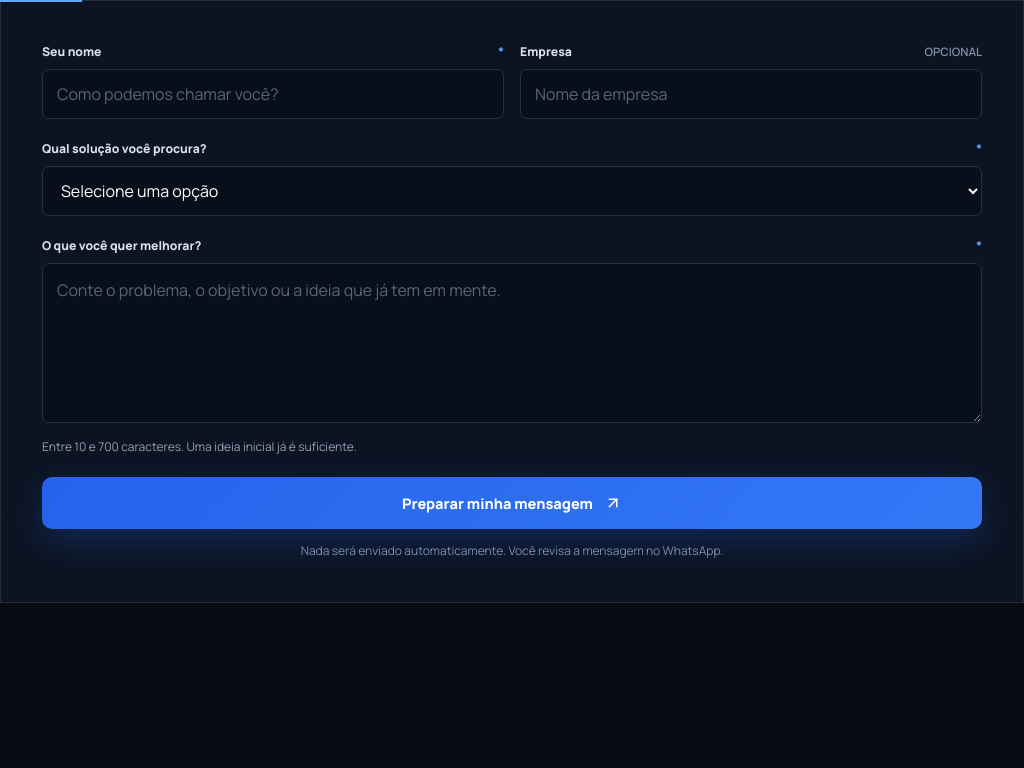
Test case: ContactForm › valida campos obrigatórios sem abrir o WhatsApp
This screenshot has width=1024, height=768.
What coordinates should you click on to do the following:
click the button "Preparar minha mensagem"
I would click on:
 (512, 503)
Its box is [42,477,982,529].
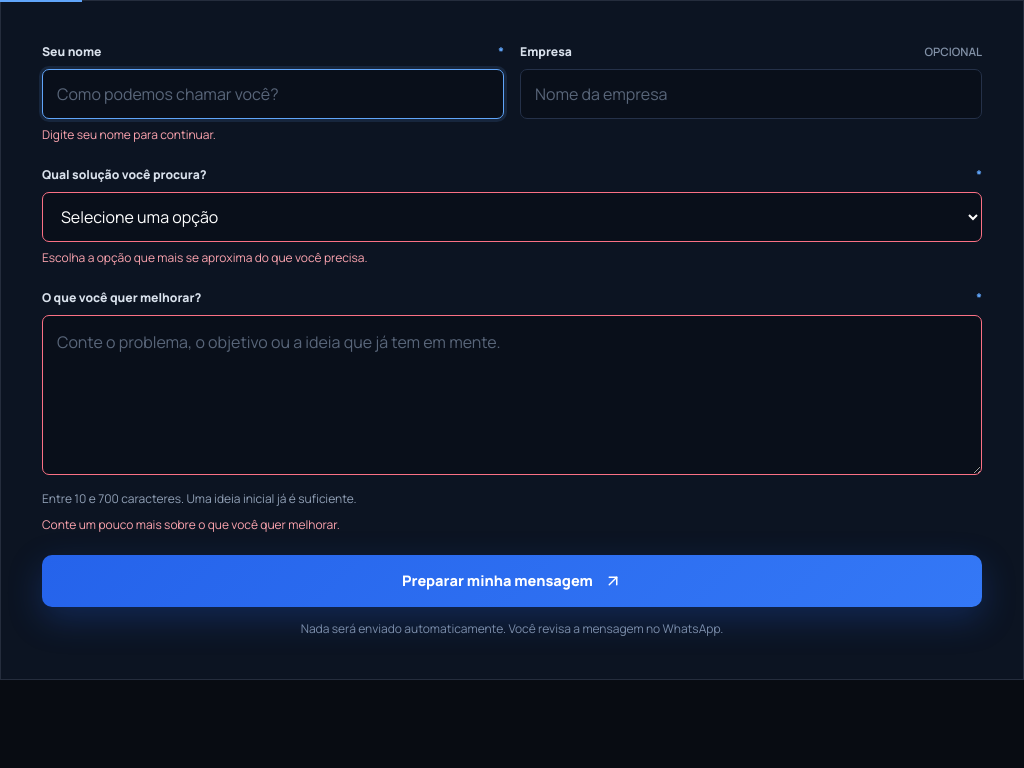
Check: the text "Digite seu nome para continuar." is shown, box [42,126,216,143]
Check: the text "Escolha a opção que mais se aproxima do que você precisa." is shown, box [42,249,368,266]
